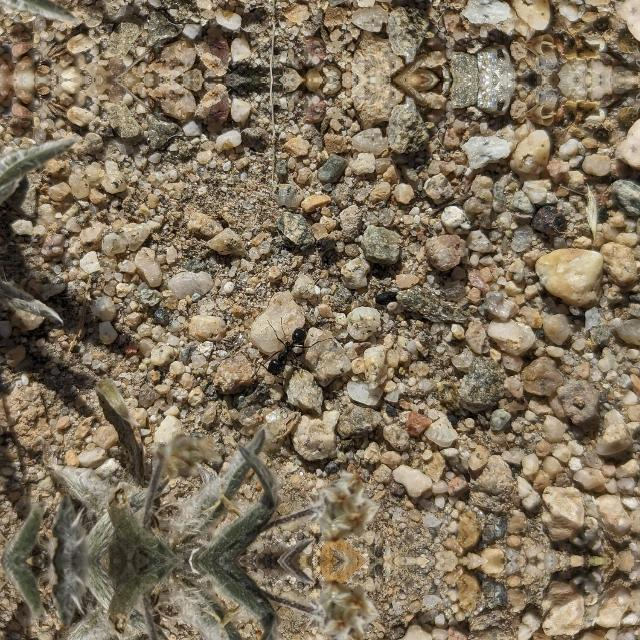Messor: (262, 320, 312, 382)
